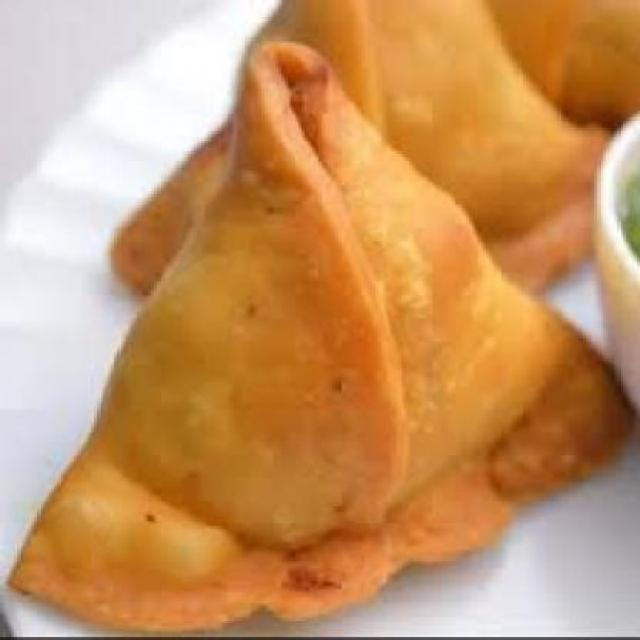samosa: (9, 43, 631, 632), (111, 0, 612, 302)
